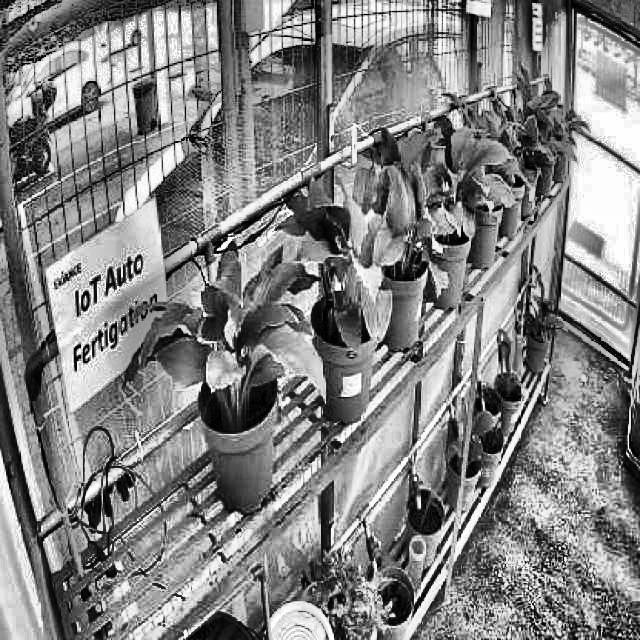plants: (130, 242, 330, 413), (340, 134, 448, 308), (288, 188, 396, 344), (394, 109, 518, 240)
